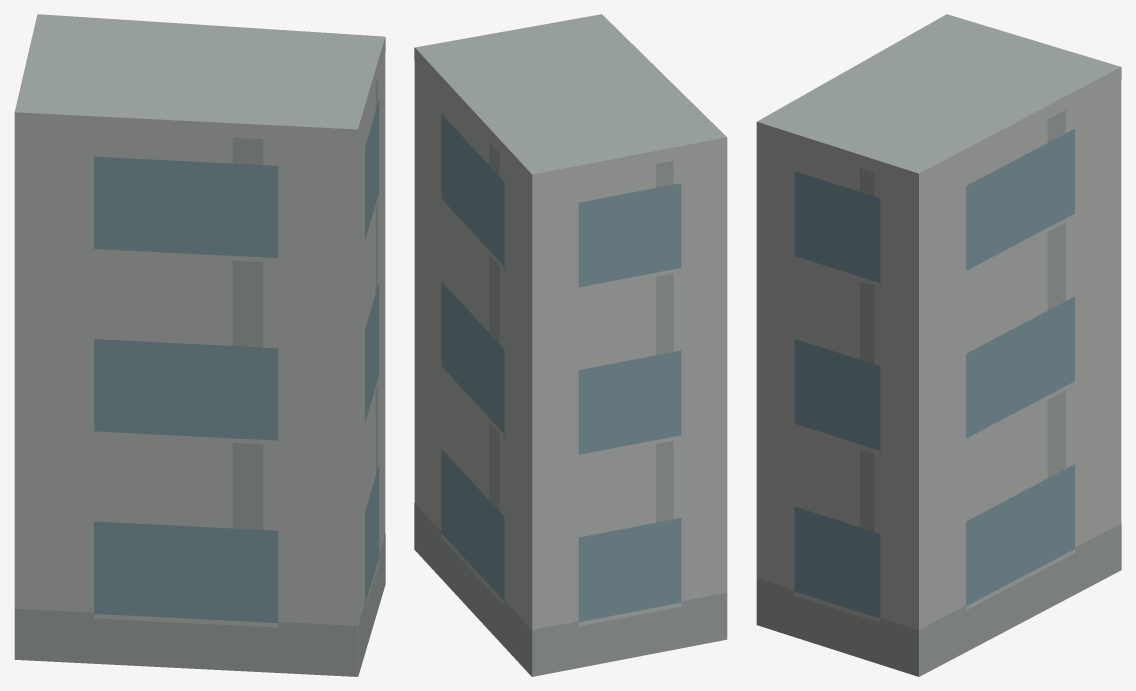
Rendered from survey-upis-32744364.glb.
3 views of the same model, side by side, from view 1: azimuth 30°, elevation 25°; view 2: azimuth 150°, elevation 25°; view 3: azimuth 270°, elevation 25° (orthographic). The views are drawn at different scales.
Parts seen in each view (by area): view 1: survey-upis-32744364.tmp; view 2: survey-upis-32744364.tmp; view 3: survey-upis-32744364.tmp.
Boxes of the visible parts, x1,y1,x2,y2 form: survey-upis-32744364.tmp: (14,14,385,676); survey-upis-32744364.tmp: (414,14,727,676); survey-upis-32744364.tmp: (756,14,1121,676).
Bounding box in the file's own units: 6.23 × 9.15 × 6.02.
